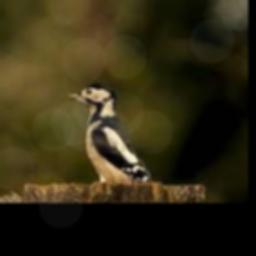Woodpecker: (65, 83, 152, 182)
